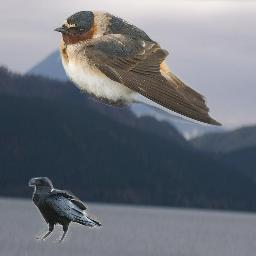Crow: (28, 177, 102, 243)
Swallow: (53, 10, 224, 127)
